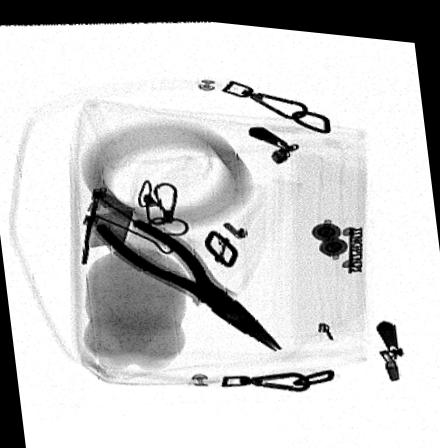Pliers: (94, 216, 282, 346)
